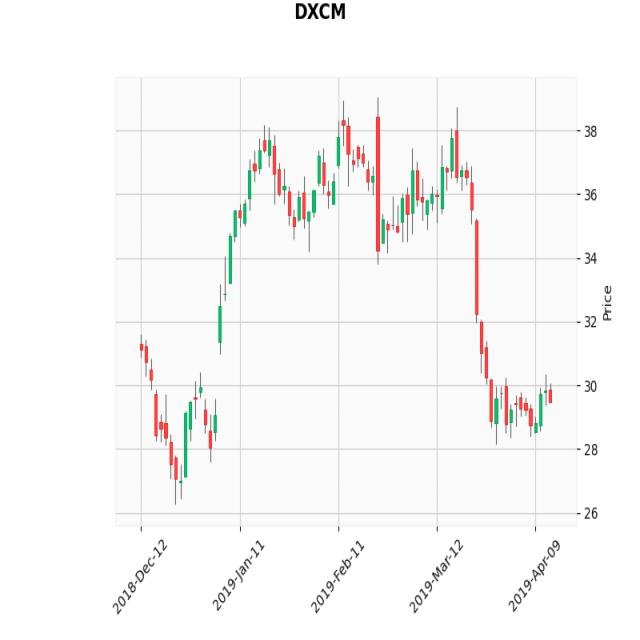Triple-Top: (217, 91, 508, 265)
